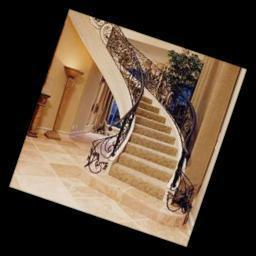Escaleras: (26, 18, 238, 234)
Otro Obstaculo: (42, 64, 87, 142), (26, 87, 54, 143)
Puerta: (83, 80, 111, 135)
